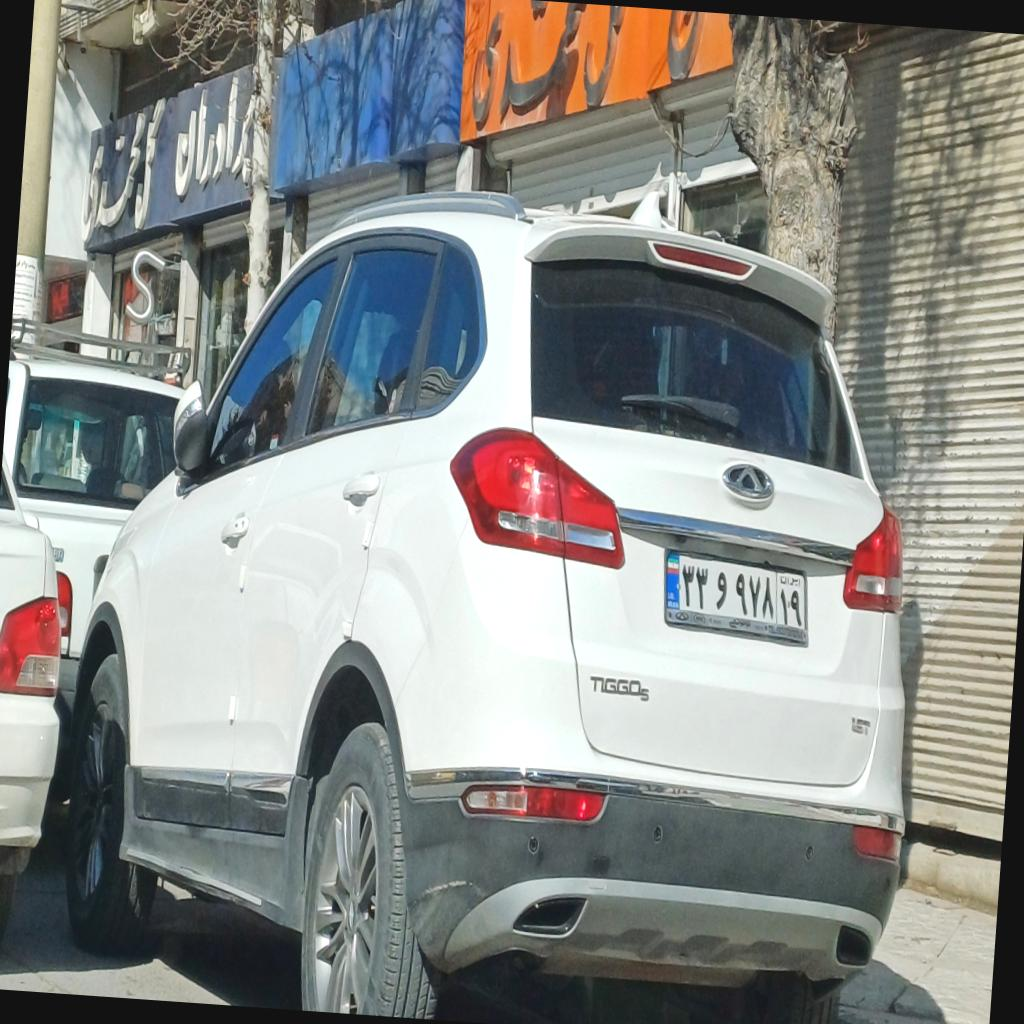Plates: (658, 548, 810, 628)
